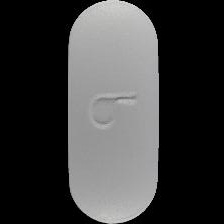68084-534: (0, 0, 224, 224)
